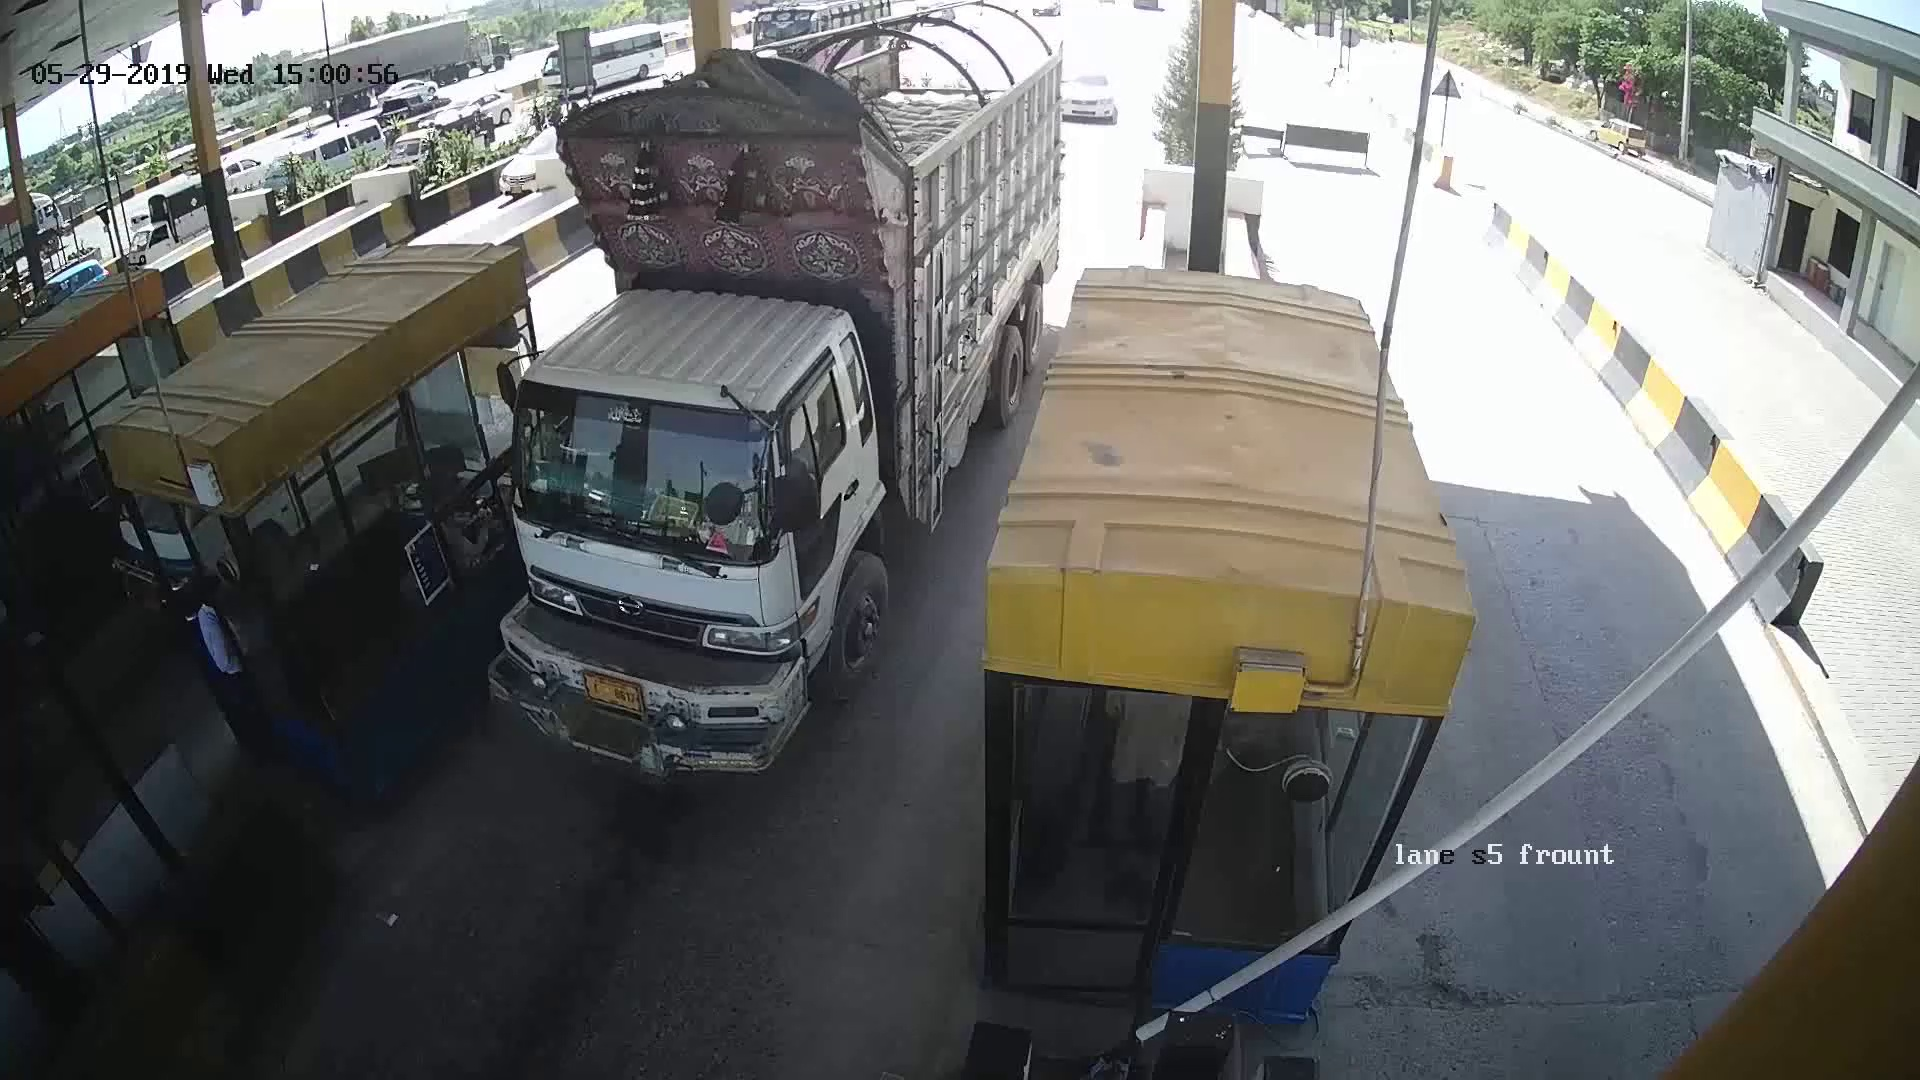car: (1062, 61, 1129, 123)
